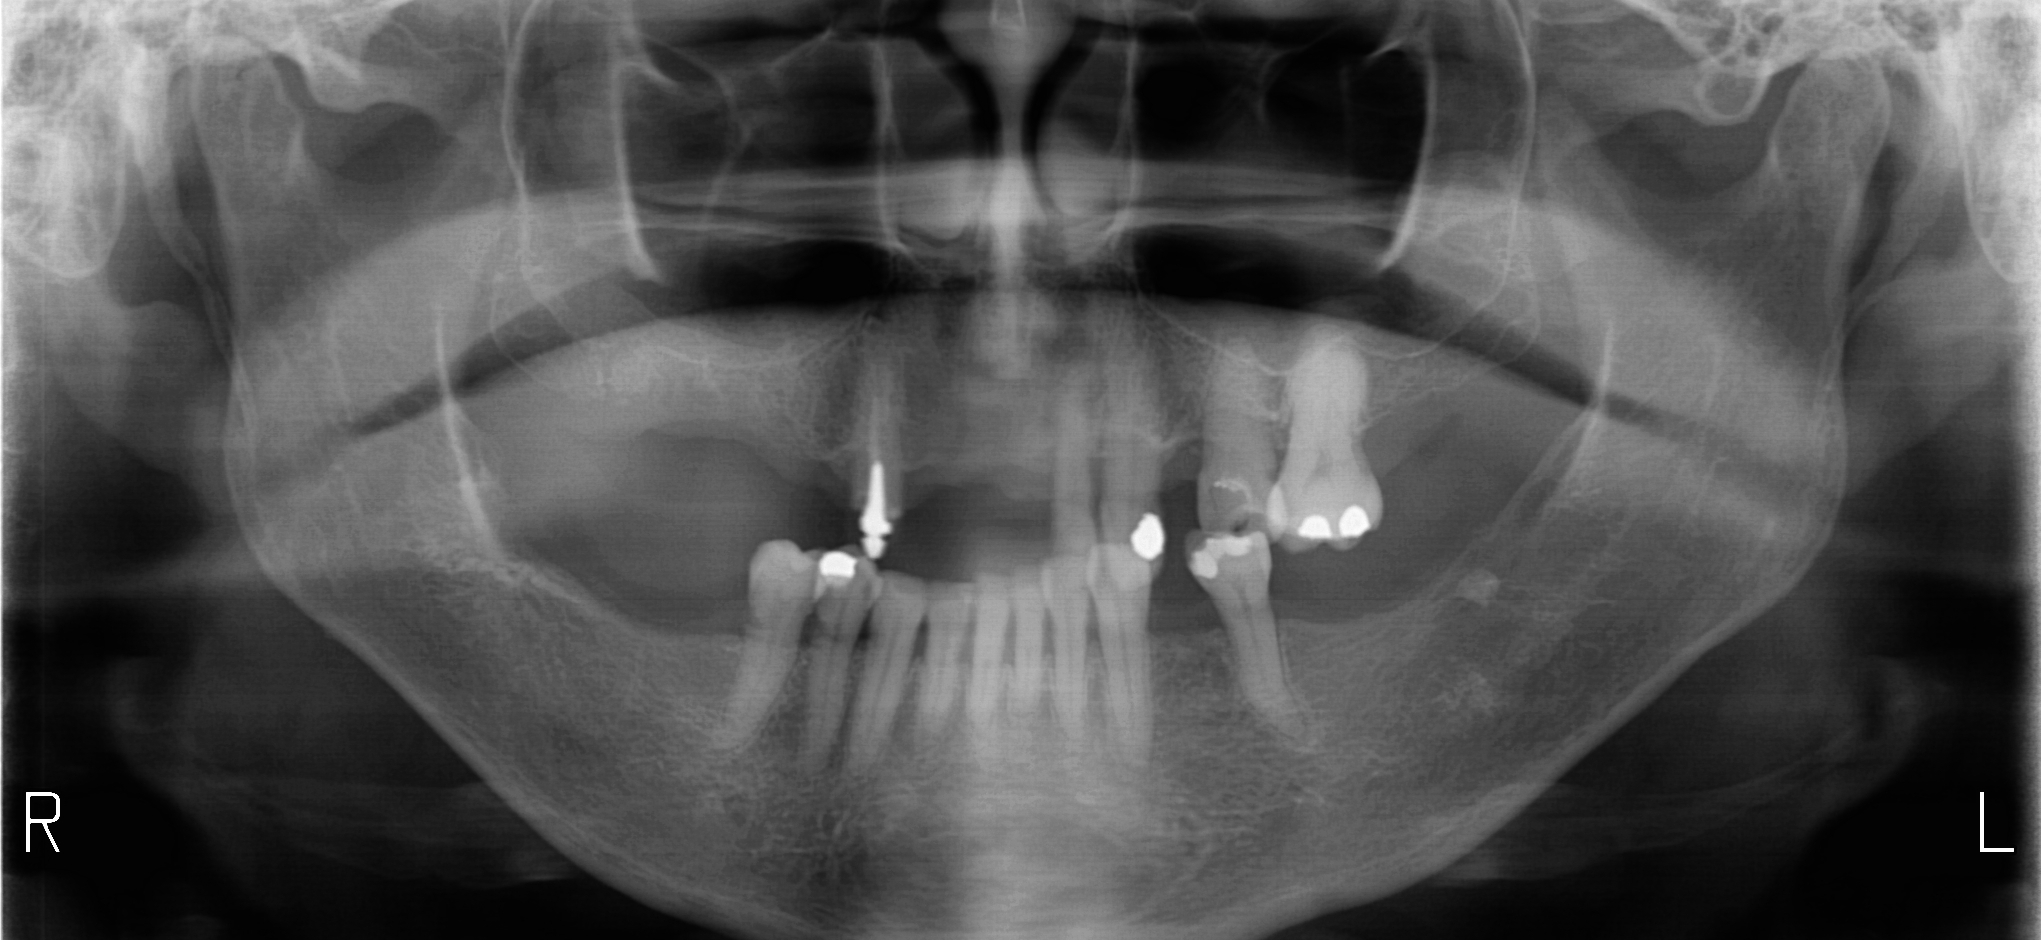cavity: (1352, 437, 1372, 471), (816, 624, 829, 648), (746, 605, 760, 621), (868, 628, 879, 641)
